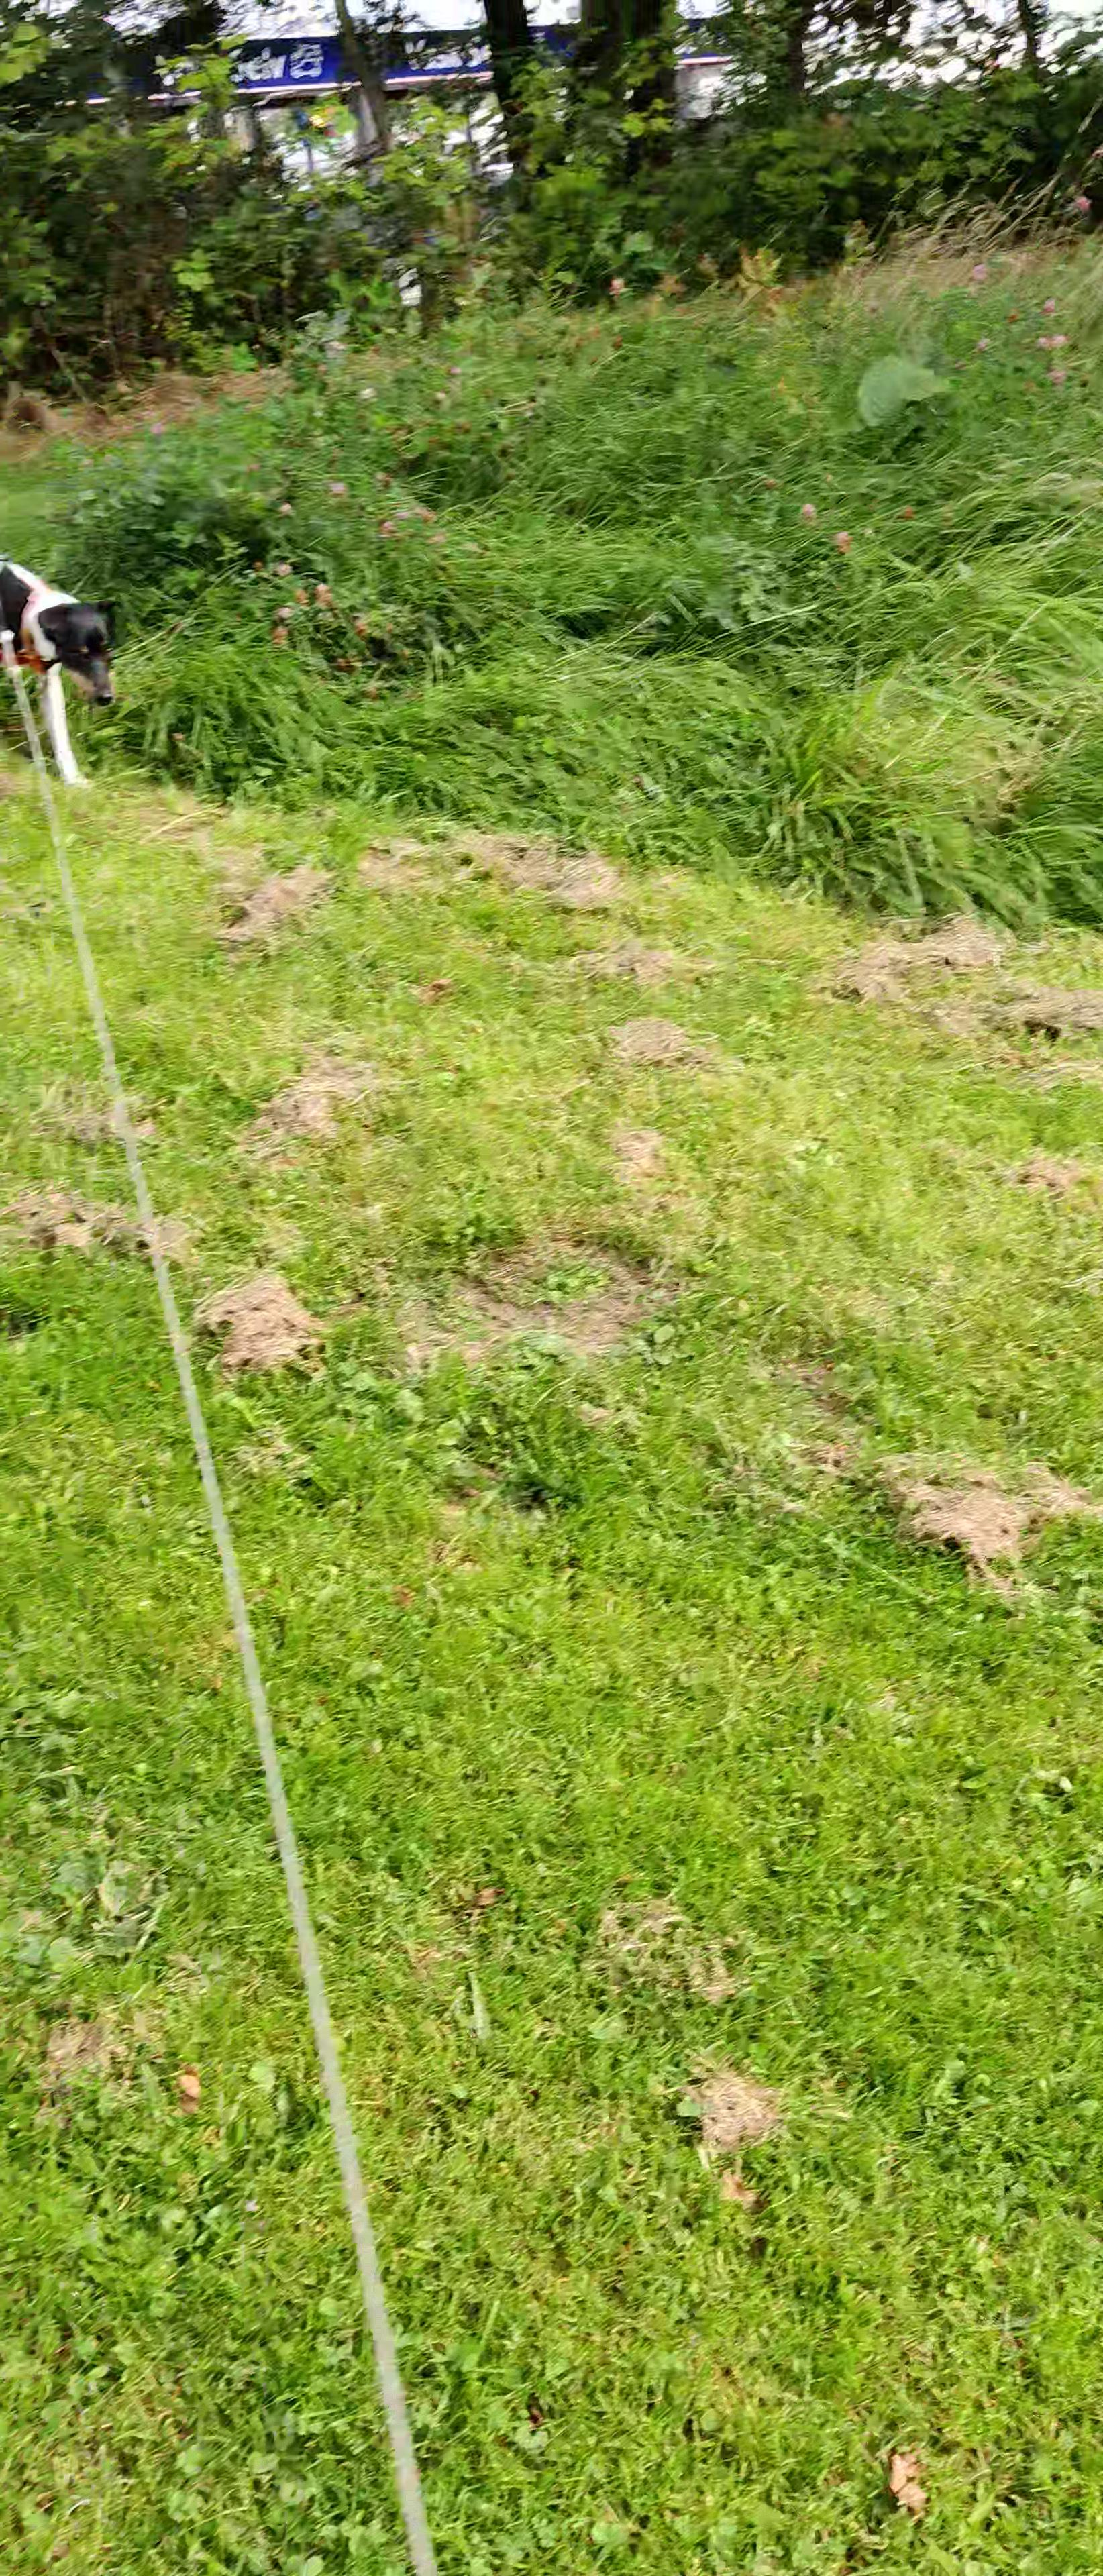Dog: (0, 542, 118, 798)
